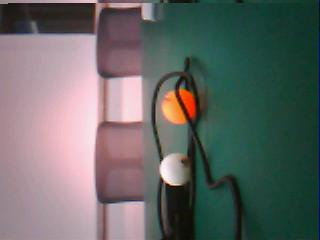oball: (162, 88, 195, 125)
